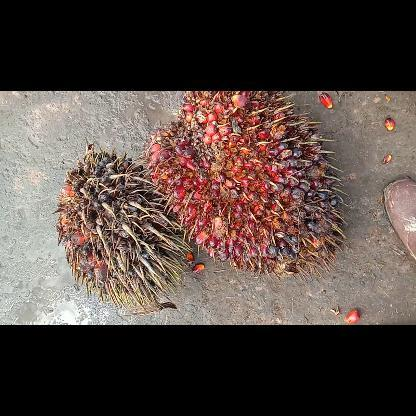TBS abnormal: (56, 144, 193, 312)
TBS masak: (139, 91, 347, 277)
